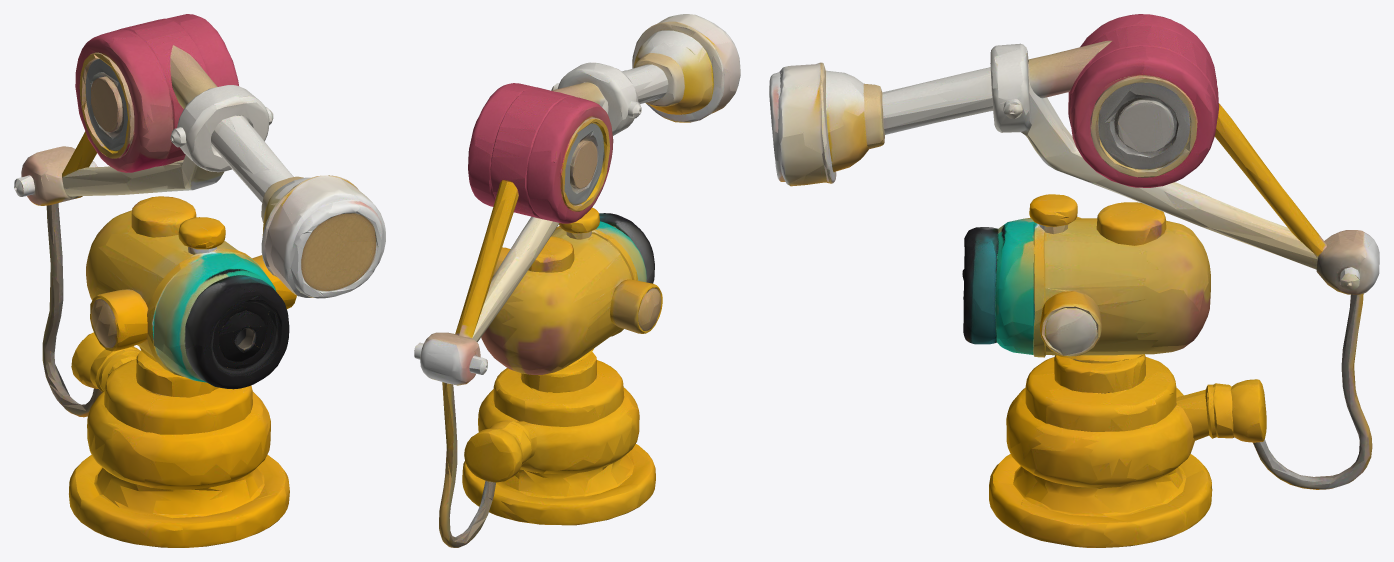
Rendered from camera-crane-boom.glb.
3 renders of one model, left to right at view 1: azimuth 30°, elevation 25°; view 2: azimuth 150°, elevation 25°; view 3: azimuth 270°, elevation 25°, orthographic. The views are drawn at different scales.
Parts seen in each view (by area): view 1: mesh_node; view 2: mesh_node; view 3: mesh_node.
Part boxes in pixels (x1,y1,x2,y2): mesh_node: (14, 14, 385, 547); mesh_node: (414, 14, 740, 547); mesh_node: (769, 14, 1379, 547).
Bounding box in the file's own units: 0.7024 × 1.6 × 1.9.
Materials: 1 (1 with a texture image).
